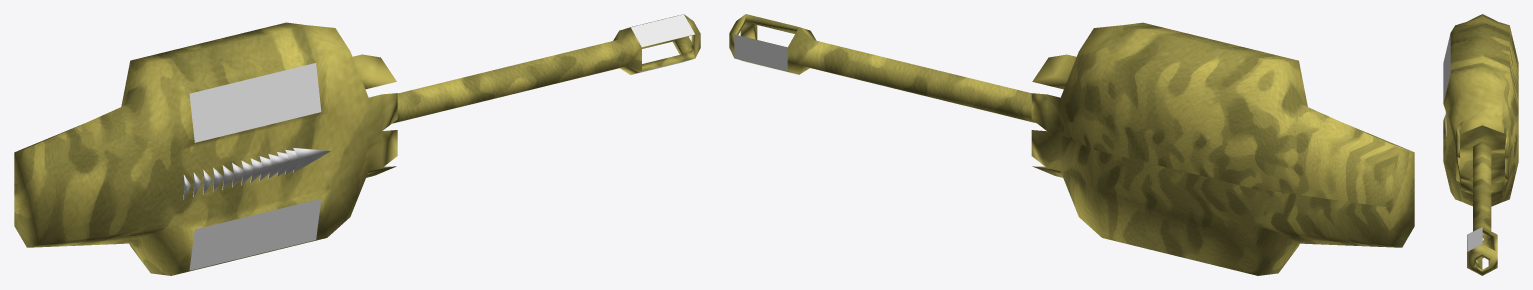
File: Laser.fbx
3 views of the same model, side by side, from view 1: azimuth 30°, elevation 25°; view 2: azimuth 150°, elevation 25°; view 3: azimuth 270°, elevation 25° (orthographic). The views are drawn at different scales.
Parts seen in each view (by area): view 1: Body0, Color1, Body1, Color0; view 2: Body0, Body1, Color1; view 3: Body0, Body1, Color1.
Boxes of the visible parts, x1,y1,x2,y2 form: Body0: [14, 22, 397, 275]; Color1: [189, 14, 694, 270]; Body1: [392, 14, 700, 123]; Color0: [183, 147, 330, 199]; Body0: [1031, 22, 1414, 275]; Body1: [729, 14, 1036, 123]; Color1: [734, 34, 798, 74]; Body0: [1443, 14, 1518, 206]; Body1: [1467, 141, 1497, 275]; Color1: [1443, 33, 1482, 269].
Size of the model in its own units: 88.63 by 26.71 by 13.01.
Materials: 1 (1 with a texture image).
